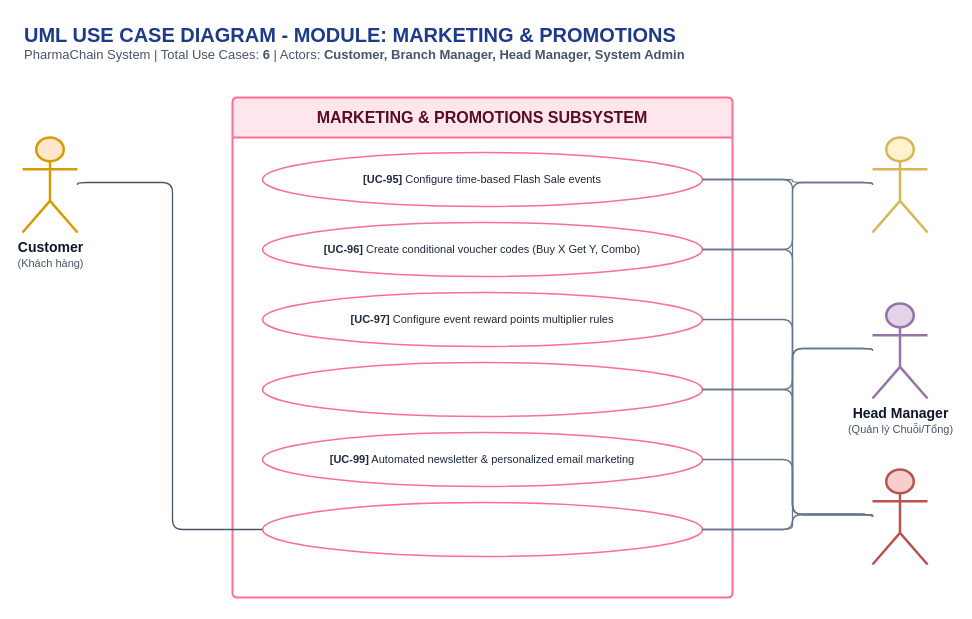
The diagram is 972 pixels wide and 619 high, and some of its shapes have lost their labels. Here are the shapes that lost their labels. From the top down, the centre of each, then its label:
the point at 899,184: Branch Manager (Quản lý Chi nhánh)
the point at 482,389: [UC-98] Marketing campaign ROI & conversion rate analysis
the point at 482,529: [UC-100] Integrate Zalo Mini App for seamless instant ordering
the point at 899,516: System Admin (Quản trị hệ thống)
